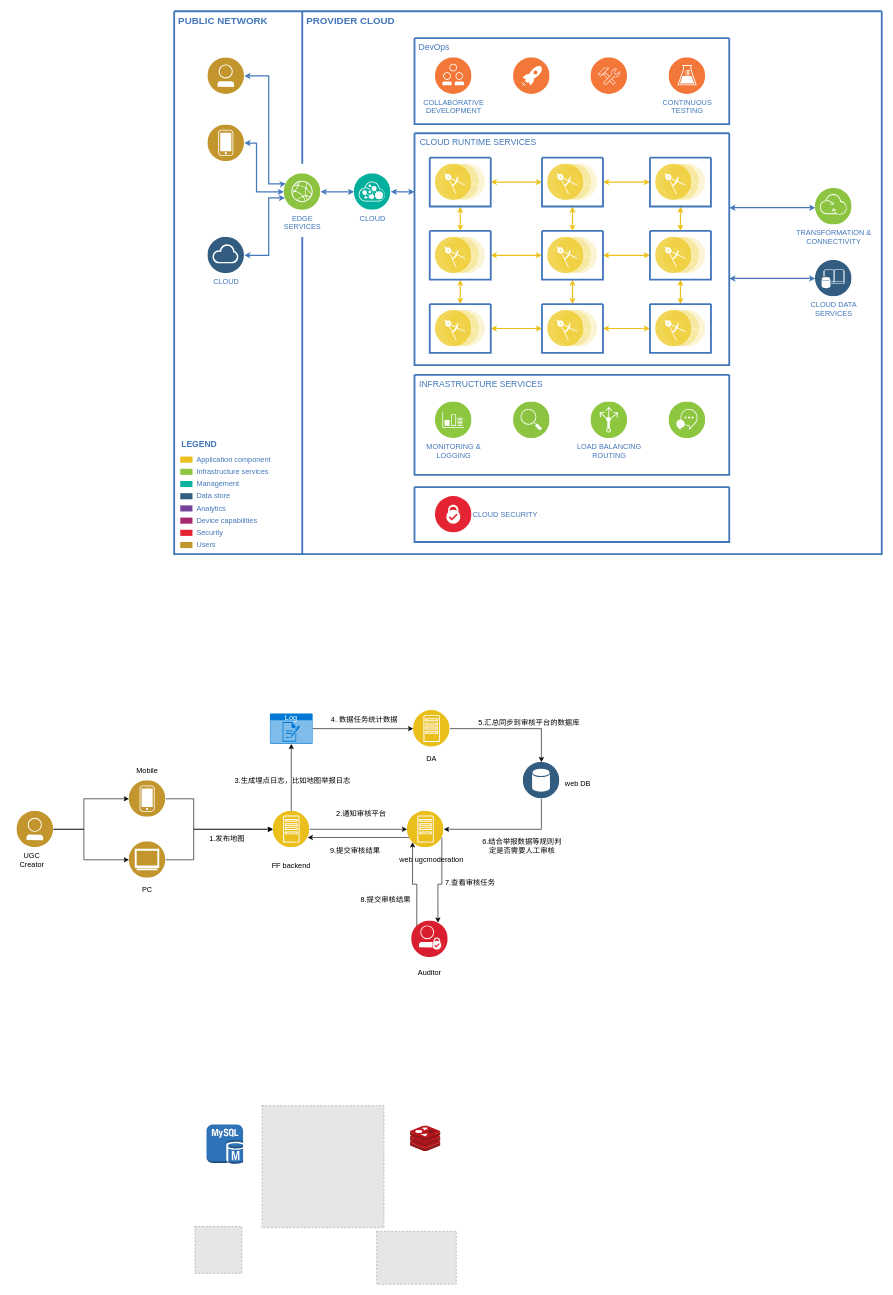
This 893x1295 diagram has some shape labels left out. Grey dashed boxes stand in for pictures. Here are the shapes that lost their labels. From the top down, the centre of each, then its label:
At [225,75]: "CLOUD USER".
At [531,75]: "CONTINUOUS DEPLOY".
At [608,75]: "CONFIGURATION MANAGEMENT".
At [225,142]: "DEVICES".
At [531,419]: "SERVICE REGISTRATION / DISCOVERY".
At [687,419]: "INTERSERVICE COMMUNICATION".
